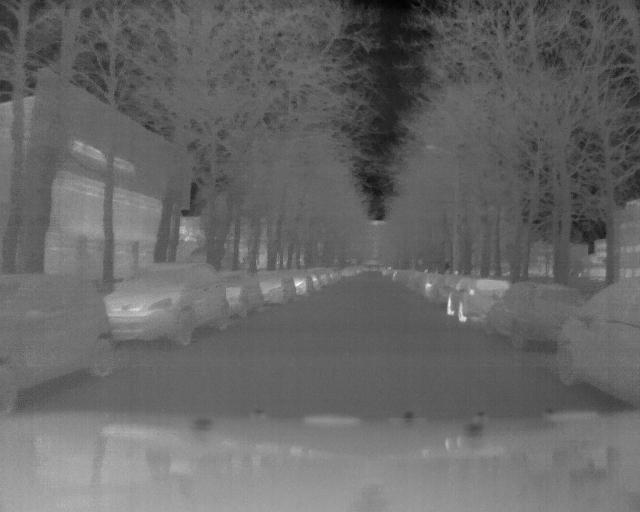car: (2, 270, 116, 415), (554, 273, 640, 406), (102, 262, 233, 348), (484, 282, 588, 350), (443, 275, 513, 324), (208, 271, 265, 316), (248, 270, 297, 306)
